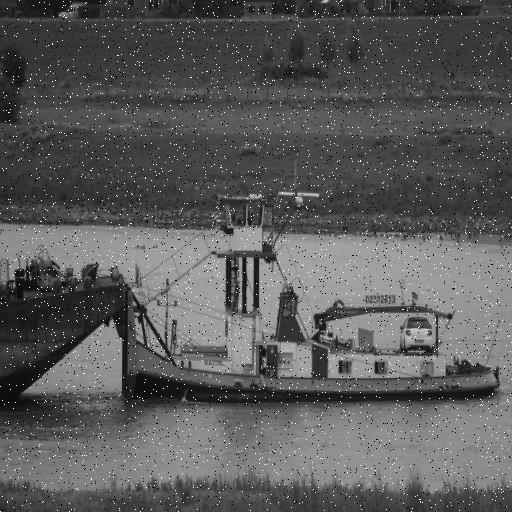tugboat: (117, 189, 509, 411)
